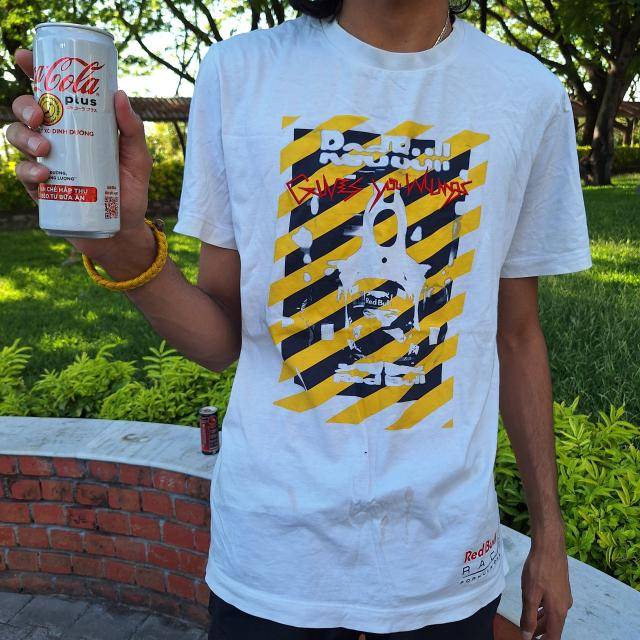Coca Cola Plus: (21, 18, 131, 250)
